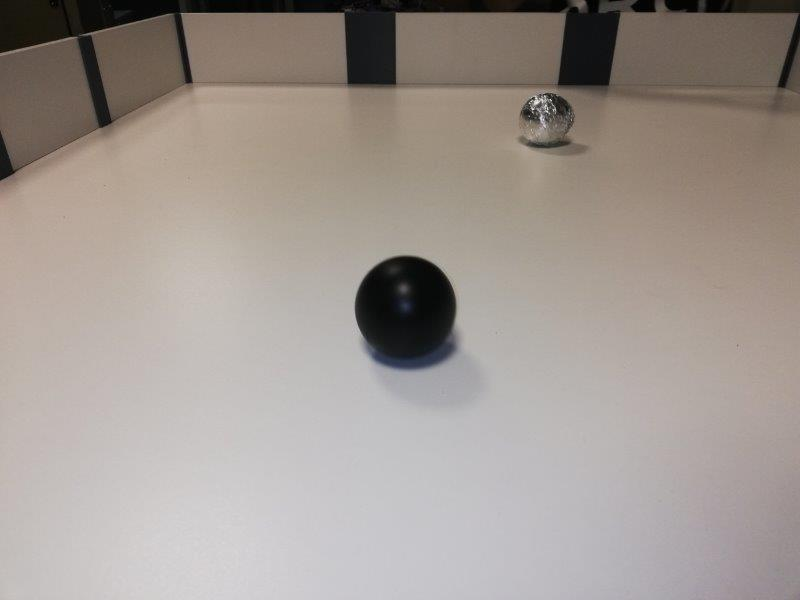bianca: (519, 92, 574, 146)
nera: (356, 255, 457, 361)
